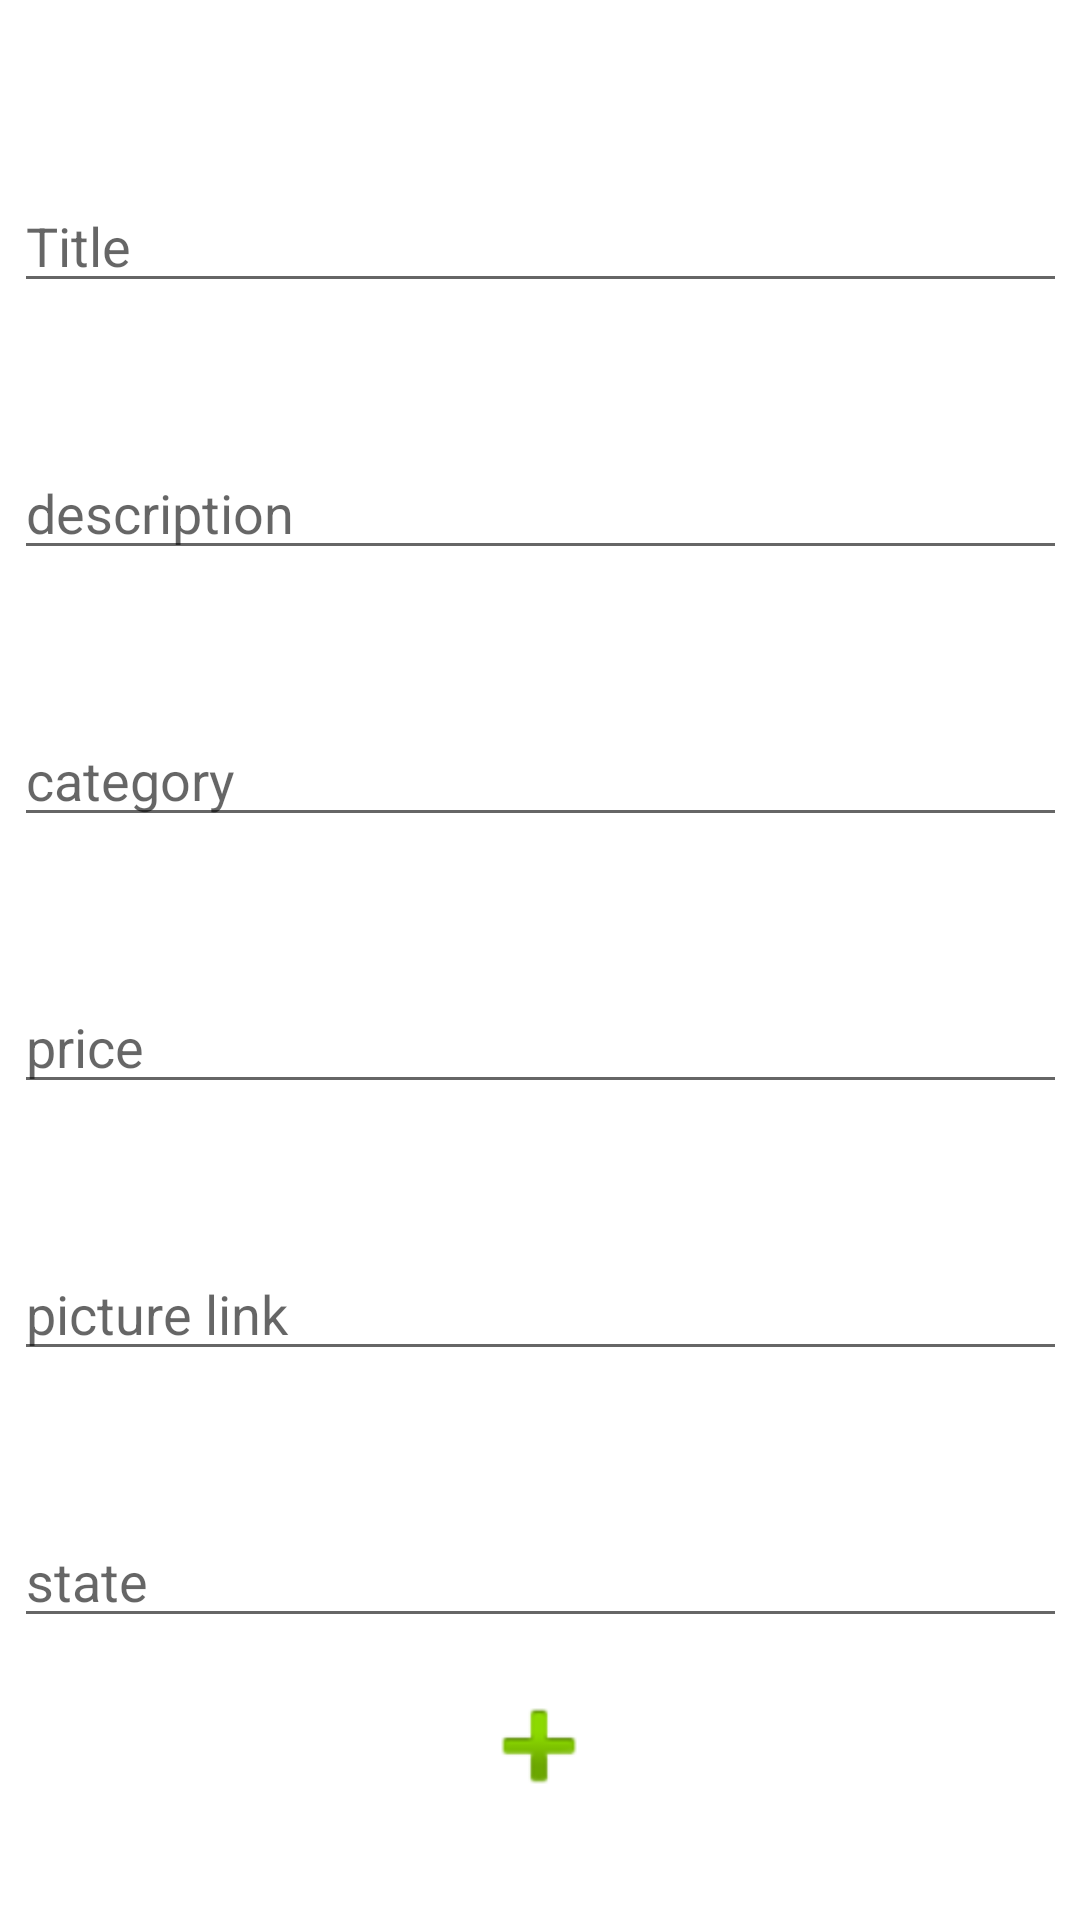

Screen size 1080 x 1920. Icon name, then its box in pixels as (x1, y1, x2, y2):
add: (501, 1708, 577, 1783)
